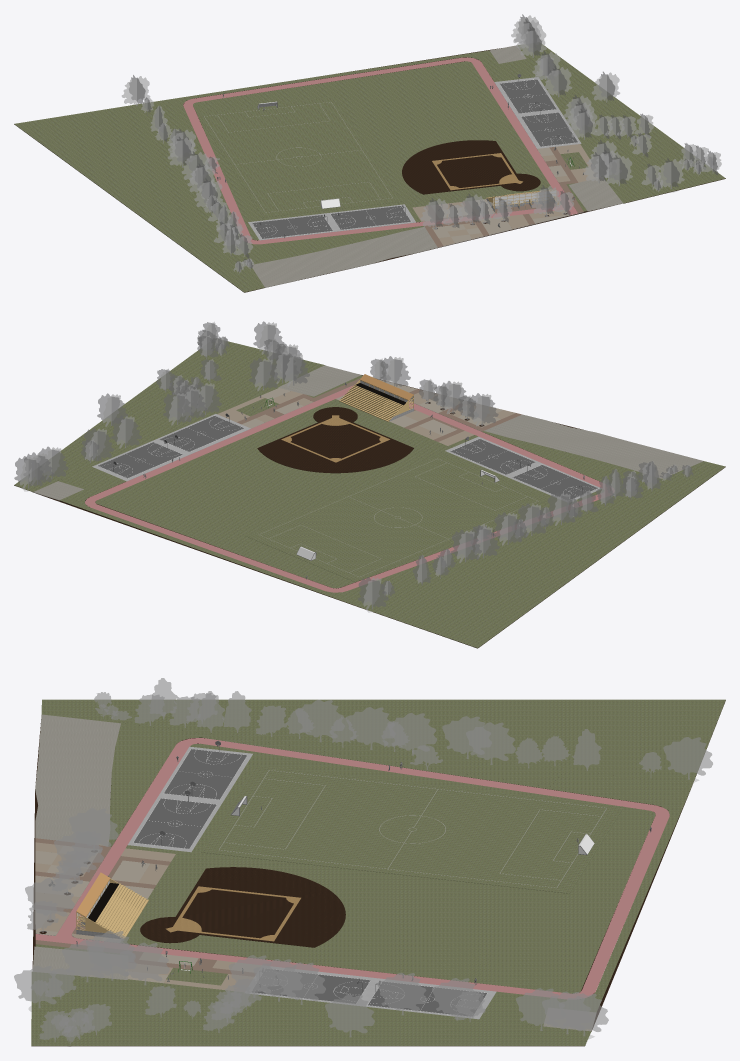
3 views of the same model, one above another, from view 1: azimuth 30°, elevation 25°; view 2: azimuth 150°, elevation 25°; view 3: azimuth 270°, elevation 25° (orthographic). The views are drawn at different scales.
Visible parts, largest first — view 1: Floor - BIM_LOADING-Jardín [794692], Floor - BIM_LOADING-Jardín [799833], BIM_LOADING-Cancha Football Soccer [835271], Floor - BIM_LOADING-Jardín [800001], Floor - BIM_LOADING-Losa-150mm [797932], Floor - BIM_LOADING-Piso Pista [798907], Floor - BIM_LOADING-Terreno 2 [869766], Floor - BIM_LOADING-Piedra Grande [795056], Floor - BIM_LOADING-Piedra Rectangular [795485], Floor - BIM_LOADING-Piedra Chica [797464], BIM_LOADING-Cancha Basketball [879972], BIM_LOADING-Cancha Basketball [879973] (+21 smaller); view 2: Floor - BIM_LOADING-Jardín [794692], Floor - BIM_LOADING-Jardín [799833], BIM_LOADING-Cancha Football Soccer [835271], Floor - BIM_LOADING-Jardín [800001], Floor - BIM_LOADING-Losa-150mm [797932], Floor - BIM_LOADING-Piso Pista [798907], Floor - BIM_LOADING-Terreno 2 [869766], Floor - BIM_LOADING-Piedra Grande [795056], Floor - BIM_LOADING-Piedra Rectangular [795485], Floor - BIM_LOADING-Piedra Chica [797464], BIM_LOADING-Cancha Basketball [879861], BIM_LOADING-Cancha Basketball [807185] (+28 smaller); view 3: Floor - BIM_LOADING-Jardín [794692], Floor - BIM_LOADING-Jardín [799833], BIM_LOADING-Cancha Football Soccer [835271], Floor - BIM_LOADING-Jardín [800001], Floor - BIM_LOADING-Losa-150mm [797932], Floor - BIM_LOADING-Piso Pista [798907], Floor - BIM_LOADING-Terreno 2 [869766], Floor - BIM_LOADING-Piedra Grande [795056], Floor - BIM_LOADING-Piedra Rectangular [795485], BIM_LOADING-Cancha Basketball [879972], BIM_LOADING-Cancha Basketball [879973], BIM_LOADING-Cancha Basketball [879861] (+47 smaller).
Boxes of the visible parts, x1=… form: Floor - BIM_LOADING-Jardín [794692]: x1=149, y1=50, x2=590, y2=264; Floor - BIM_LOADING-Jardín [799833]: x1=14, y1=103, x2=264, y2=292; BIM_LOADING-Cancha Football Soccer [835271]: x1=196, y1=97, x2=401, y2=217; Floor - BIM_LOADING-Jardín [800001]: x1=518, y1=43, x2=725, y2=203; Floor - BIM_LOADING-Losa-150mm [797932]: x1=251, y1=45, x2=623, y2=287; Floor - BIM_LOADING-Piso Pista [798907]: x1=183, y1=57, x2=577, y2=244; Floor - BIM_LOADING-Terreno 2 [869766]: x1=402, y1=140, x2=540, y2=194; Floor - BIM_LOADING-Piedra Grande [795056]: x1=412, y1=144, x2=591, y2=246; Floor - BIM_LOADING-Piedra Rectangular [795485]: x1=432, y1=147, x2=596, y2=237; Floor - BIM_LOADING-Piedra Chica [797464]: x1=424, y1=147, x2=583, y2=247; BIM_LOADING-Cancha Basketball [879972]: x1=330, y1=205, x2=411, y2=229; BIM_LOADING-Cancha Basketball [879973]: x1=252, y1=215, x2=332, y2=238; Floor - BIM_LOADING-Jardín [794692]: x1=58, y1=375, x2=661, y2=606; Floor - BIM_LOADING-Jardín [799833]: x1=359, y1=461, x2=725, y2=648; BIM_LOADING-Cancha Football Soccer [835271]: x1=246, y1=453, x2=549, y2=582; Floor - BIM_LOADING-Jardín [800001]: x1=14, y1=341, x2=324, y2=492; Floor - BIM_LOADING-Losa-150mm [797932]: x1=33, y1=365, x2=703, y2=500; Floor - BIM_LOADING-Piso Pista [798907]: x1=85, y1=385, x2=613, y2=592; Floor - BIM_LOADING-Terreno 2 [869766]: x1=257, y1=407, x2=413, y2=473; Floor - BIM_LOADING-Piedra Grande [795056]: x1=217, y1=391, x2=515, y2=445; Floor - BIM_LOADING-Piedra Rectangular [795485]: x1=242, y1=380, x2=500, y2=435; Floor - BIM_LOADING-Piedra Chica [797464]: x1=237, y1=378, x2=521, y2=441; BIM_LOADING-Cancha Basketball [879861]: x1=98, y1=442, x2=182, y2=478; BIM_LOADING-Cancha Basketball [807185]: x1=159, y1=415, x2=244, y2=451; Floor - BIM_LOADING-Jardín [794692]: x1=35, y1=723, x2=690, y2=1026; Floor - BIM_LOADING-Jardín [799833]: x1=41, y1=699, x2=725, y2=788; BIM_LOADING-Cancha Football Soccer [835271]: x1=201, y1=765, x2=623, y2=893; Floor - BIM_LOADING-Jardín [800001]: x1=31, y1=972, x2=591, y2=1046; Floor - BIM_LOADING-Losa-150mm [797932]: x1=33, y1=714, x2=596, y2=1031; Floor - BIM_LOADING-Piso Pista [798907]: x1=35, y1=738, x2=669, y2=999; Floor - BIM_LOADING-Terreno 2 [869766]: x1=140, y1=867, x2=345, y2=947; Floor - BIM_LOADING-Piedra Grande [795056]: x1=35, y1=842, x2=253, y2=991; Floor - BIM_LOADING-Piedra Rectangular [795485]: x1=35, y1=846, x2=260, y2=983; BIM_LOADING-Cancha Basketball [879972]: x1=133, y1=798, x2=216, y2=848; BIM_LOADING-Cancha Basketball [879973]: x1=163, y1=749, x2=247, y2=799; BIM_LOADING-Cancha Basketball [879861]: x1=368, y1=981, x2=487, y2=1016.
Size of the model in its own units: 212 by 15.13 by 183.
45 materials, 10 textured.
